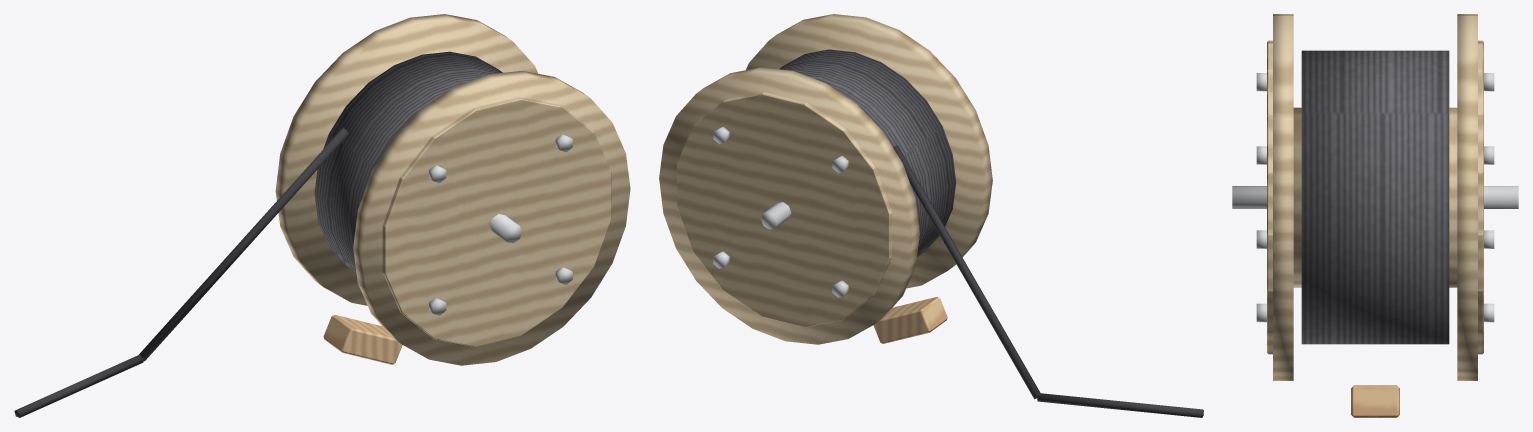
File: Maquininha_CableReel.fbx
3 renders of one model, left to right at view 1: azimuth 30°, elevation 25°; view 2: azimuth 150°, elevation 25°; view 3: azimuth 270°, elevation 25°, orthographic. The views are drawn at different scales.
Parts seen in each view (by area): view 1: Maquininha_CableReel; view 2: Maquininha_CableReel; view 3: Maquininha_CableReel.
Part boxes in pixels (<box>): Maquininha_CableReel: <box>14,14,630,417</box>; Maquininha_CableReel: <box>659,14,1203,417</box>; Maquininha_CableReel: <box>1232,14,1518,417</box>.
Bounding box in the file's own units: 1.85 × 0.9351 × 0.7.
Materials: 1 (1 with a texture image).
